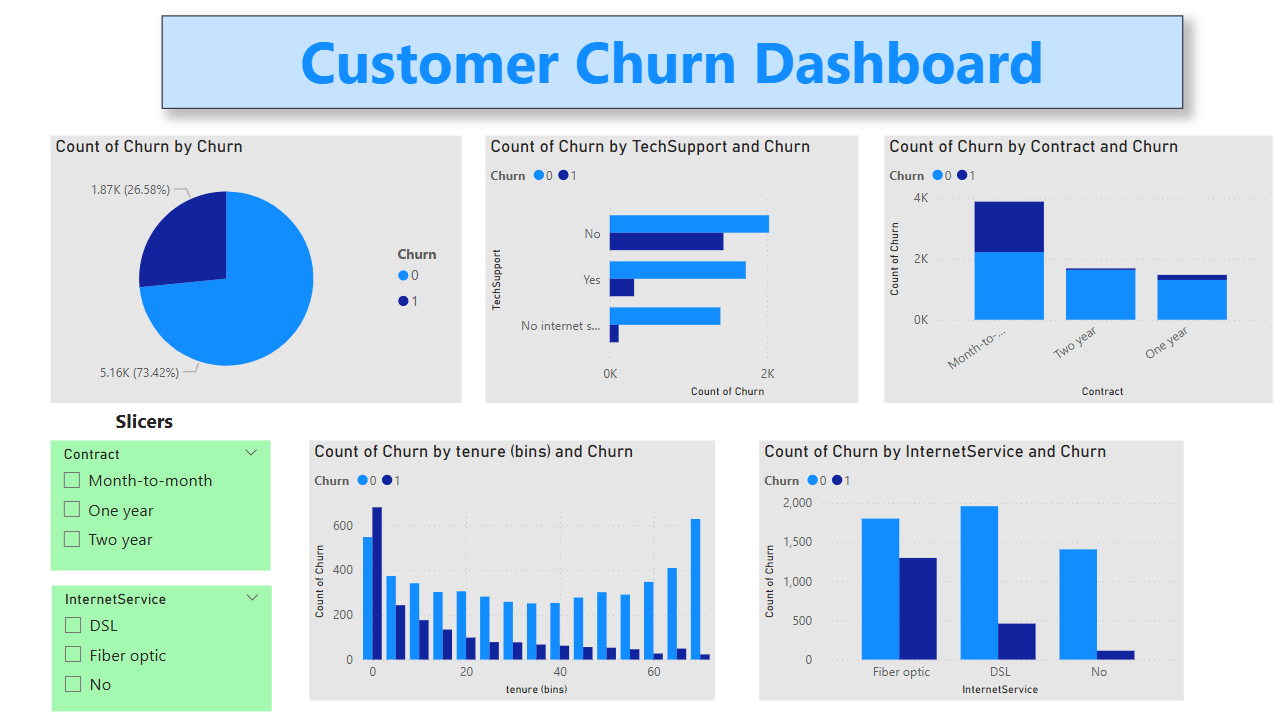

What the dashboard file says about the page in this screenshot:
{"tool":"powerbi","page":{"name":"Page 6","canvas":[1280,720],"ordinal":5},"visuals":[{"type":"pieChart","fields":{"Y":["CountNonNull(powerbi_ready_data.Churn)"],"Category":["powerbi_ready_data.Churn"]},"box":[55.9,139.7,402.4,261.3],"z":0},{"type":"columnChart","fields":{"Category":["powerbi_ready_data.Contract"],"Y":["CountNonNull(powerbi_ready_data.Churn)"],"Series":["powerbi_ready_data.Churn"]},"box":[872,139.7,380.1,261.3],"z":1000},{"type":"clusteredColumnChart","fields":{"Category":["powerbi_ready_data.InternetService"],"Y":["CountNonNull(powerbi_ready_data.Churn)"],"Series":["powerbi_ready_data.Churn"]},"box":[749,437.4,415,254.3],"z":2000},{"type":"clusteredBarChart","fields":{"Category":["powerbi_ready_data.TechSupport"],"Y":["CountNonNull(powerbi_ready_data.Churn)"],"Series":["powerbi_ready_data.Churn"]},"box":[482.1,139.7,364.7,261.3],"z":3000},{"type":"clusteredColumnChart","fields":{"Y":["CountNonNull(powerbi_ready_data.Churn)"],"Series":["powerbi_ready_data.Churn"],"Category":["powerbi_ready_data.tenure (bins)"]},"box":[308.8,437.4,396.9,254.3],"z":4000},{"type":"textbox","box":[164.9,22.4,999.1,90.8],"z":5000},{"type":"slicer","fields":{"Values":["powerbi_ready_data.Contract"]},"box":[55.9,437.4,215.2,127.2],"z":6000},{"type":"textbox","box":[114.6,401,78.3,36.3],"z":7000},{"type":"slicer","fields":{"Values":["powerbi_ready_data.InternetService"]},"box":[57.3,579.9,215.2,123],"z":8000}]}

Visuals, with their boxes in screenshot pixels (x1, y1, x2, y2), scaled from the page's 1280x720 canvas onto the 1287x716 screenshot:
pieChart - CountNonNull(powerbi_ready_data.Churn) x powerbi_ready_data.Churn: locate(56, 139, 461, 399)
columnChart - powerbi_ready_data.Contract x CountNonNull(powerbi_ready_data.Churn): locate(877, 139, 1259, 399)
clusteredColumnChart - powerbi_ready_data.InternetService x CountNonNull(powerbi_ready_data.Churn): locate(753, 435, 1170, 688)
clusteredBarChart - powerbi_ready_data.TechSupport x CountNonNull(powerbi_ready_data.Churn): locate(485, 139, 851, 399)
clusteredColumnChart - CountNonNull(powerbi_ready_data.Churn) x powerbi_ready_data.Churn: locate(310, 435, 710, 688)
textbox: locate(166, 22, 1170, 113)
slicer - powerbi_ready_data.Contract: locate(56, 435, 273, 561)
textbox: locate(115, 399, 194, 435)
slicer - powerbi_ready_data.InternetService: locate(58, 577, 274, 699)
